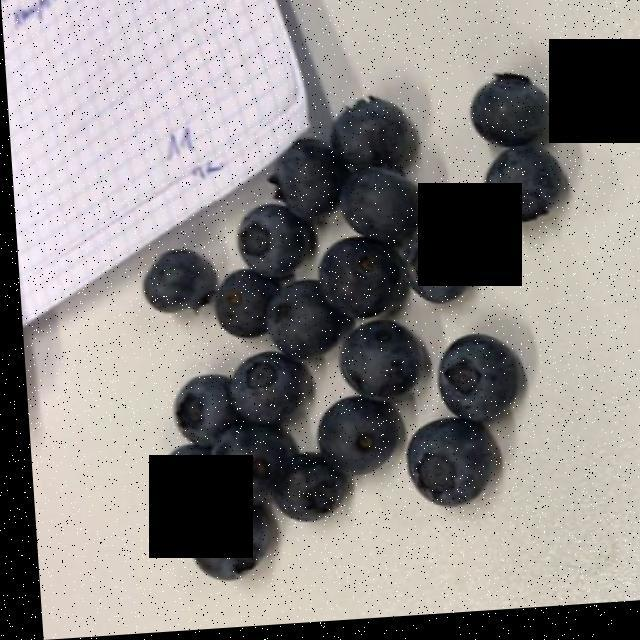blueberries: (131, 1, 567, 622)
